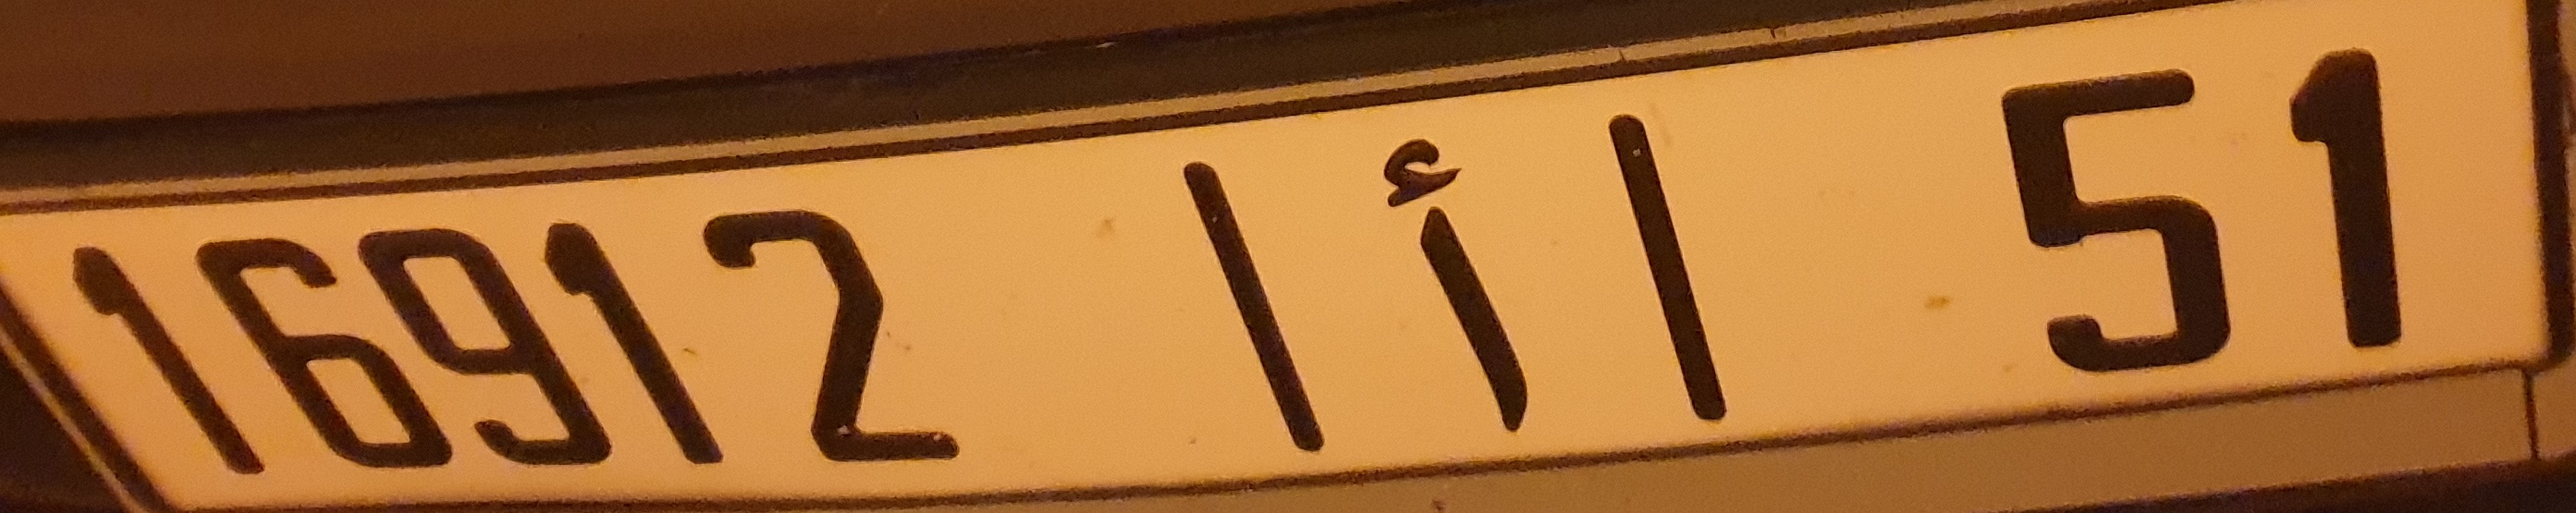1: (64, 234, 267, 477), (2272, 43, 2427, 359), (538, 218, 732, 465)
2: (695, 203, 972, 473)
5: (1983, 57, 2248, 376)
6: (191, 231, 461, 473)
9: (352, 231, 619, 473)
a: (1367, 128, 1543, 437)
